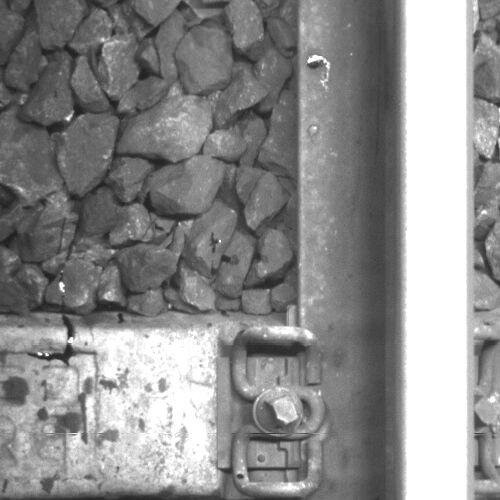rail: (398, 1, 475, 500)
tie_concr: (1, 326, 295, 500)
vossloh: (216, 327, 329, 499)
